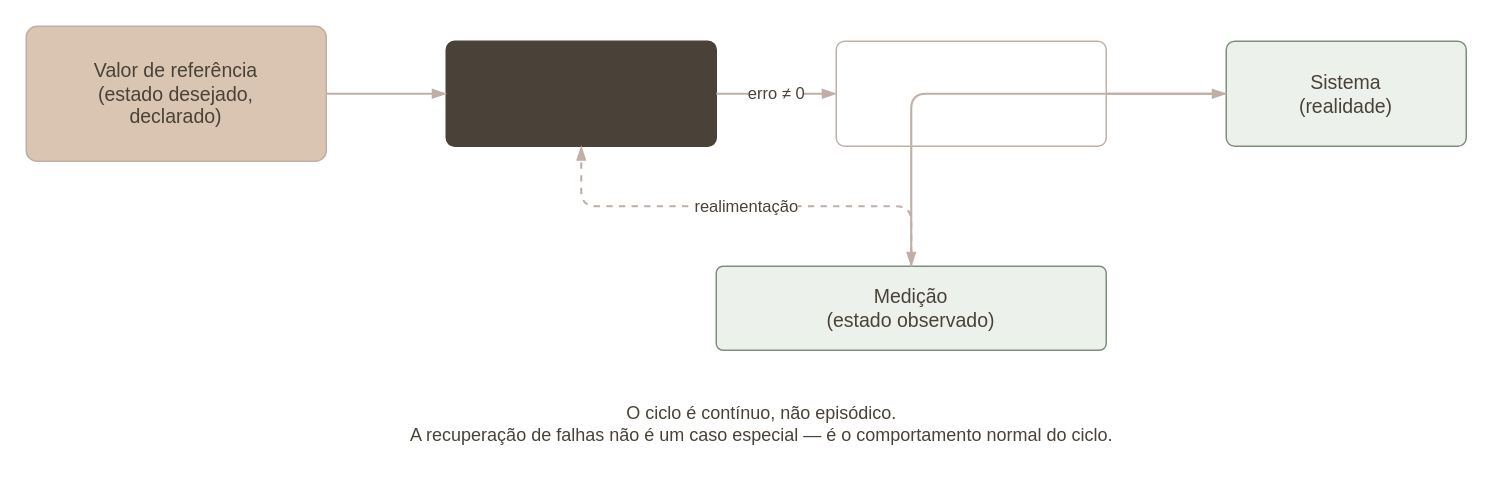
Image size: 1493x488. Some labels were removed from this diagram. Here are the shapes that lost their labels. From the top down, the centre of each, then its label:
At point (580, 93): "Comparador calcula o erro".
At point (970, 93): "Atuador executa ação corretiva".
